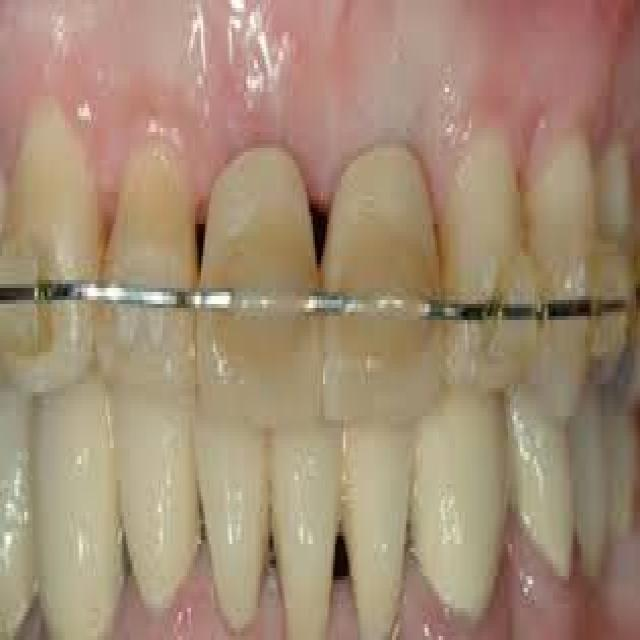Tooth Discoloration: (199, 212, 449, 384)
